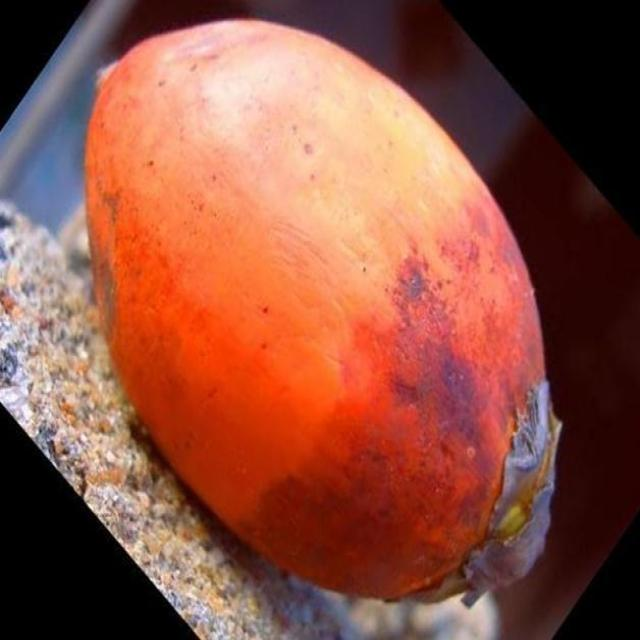good: (84, 18, 564, 609)
